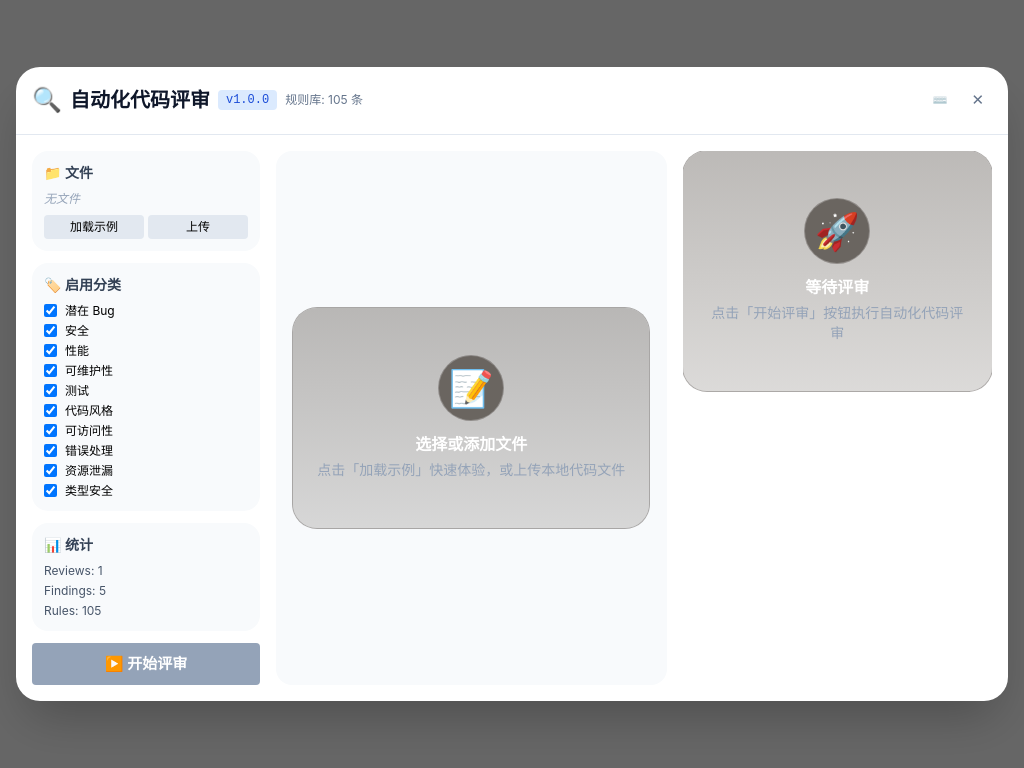
Test case: AutoCodeReviewPanel › 打开规则管理面板
Click the button "加载示例" at (94, 226), box [44, 214, 144, 238]
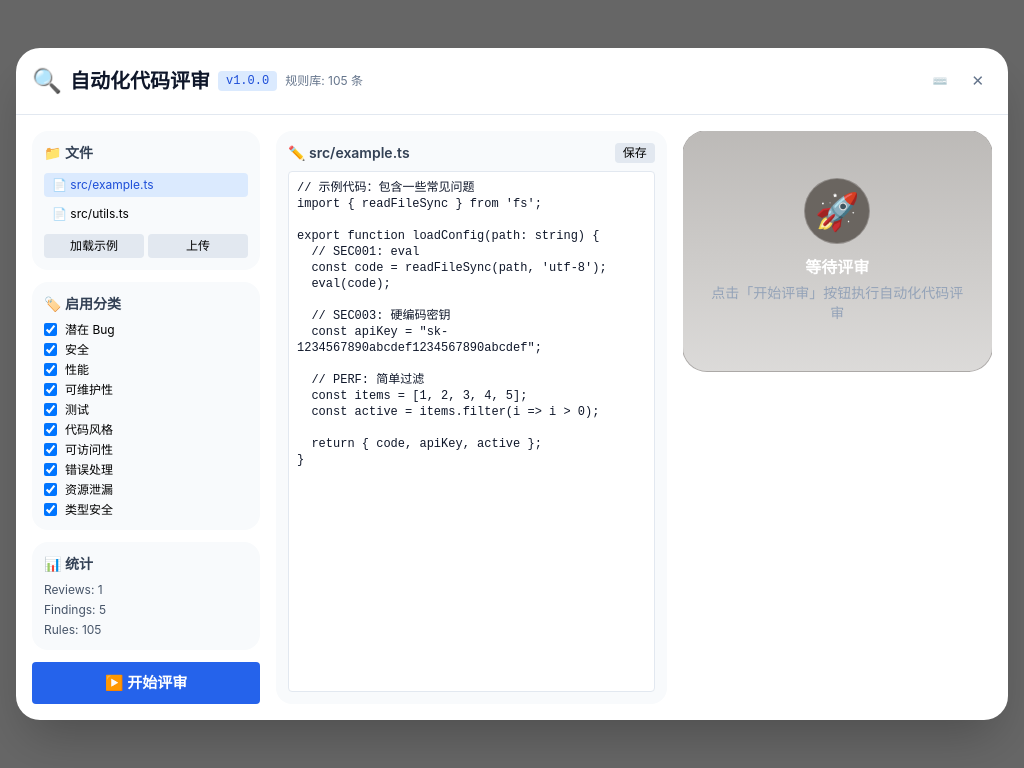
Click the button with test id "run-review-btn" at (146, 683), box [32, 662, 260, 704]
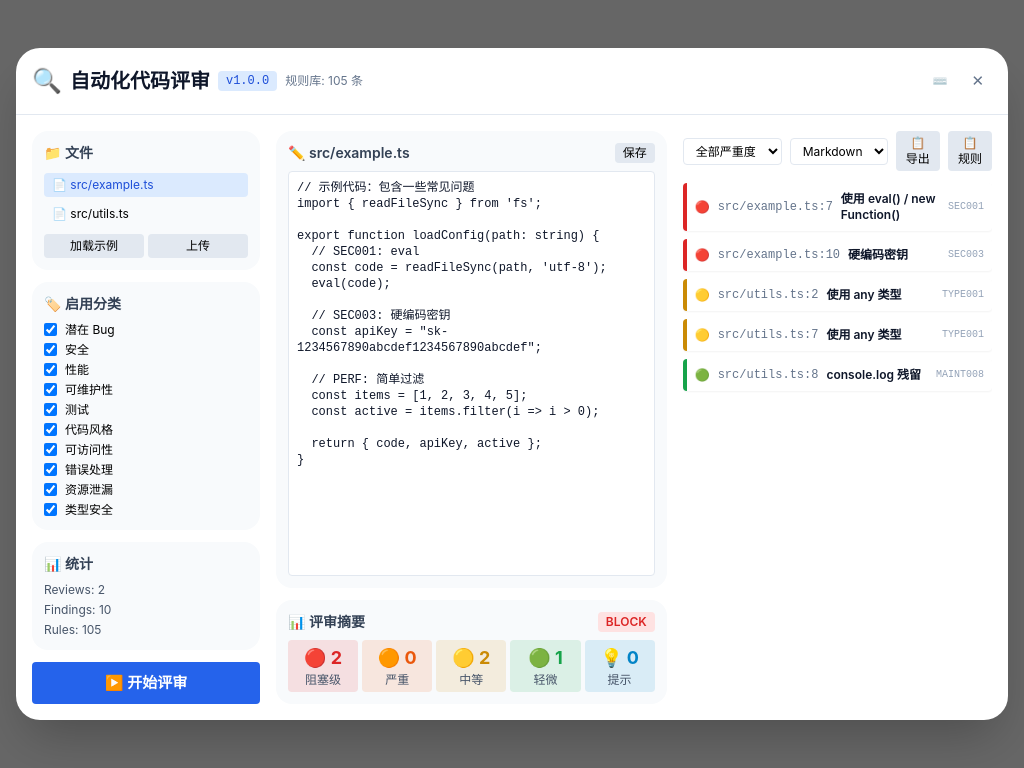
Expected: the button "📋 规则" is shown
Click the button "📋 规则" at (970, 151), box [948, 131, 992, 171]
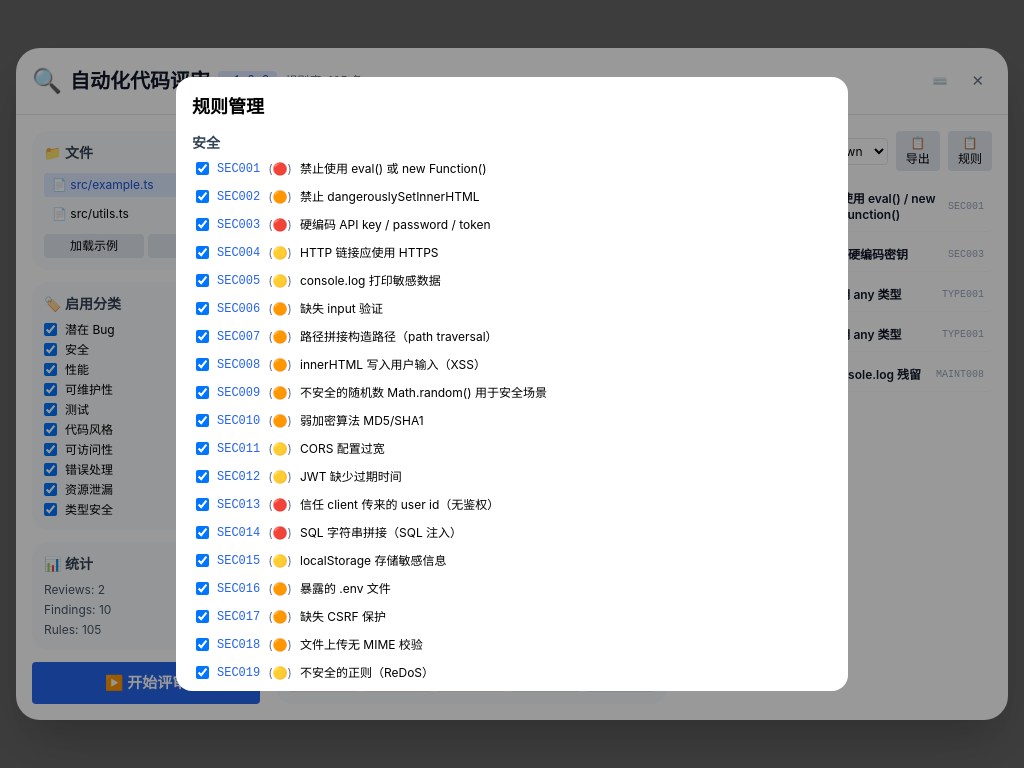
Expected: the heading "规则管理" is shown, [192, 96, 264, 117]
